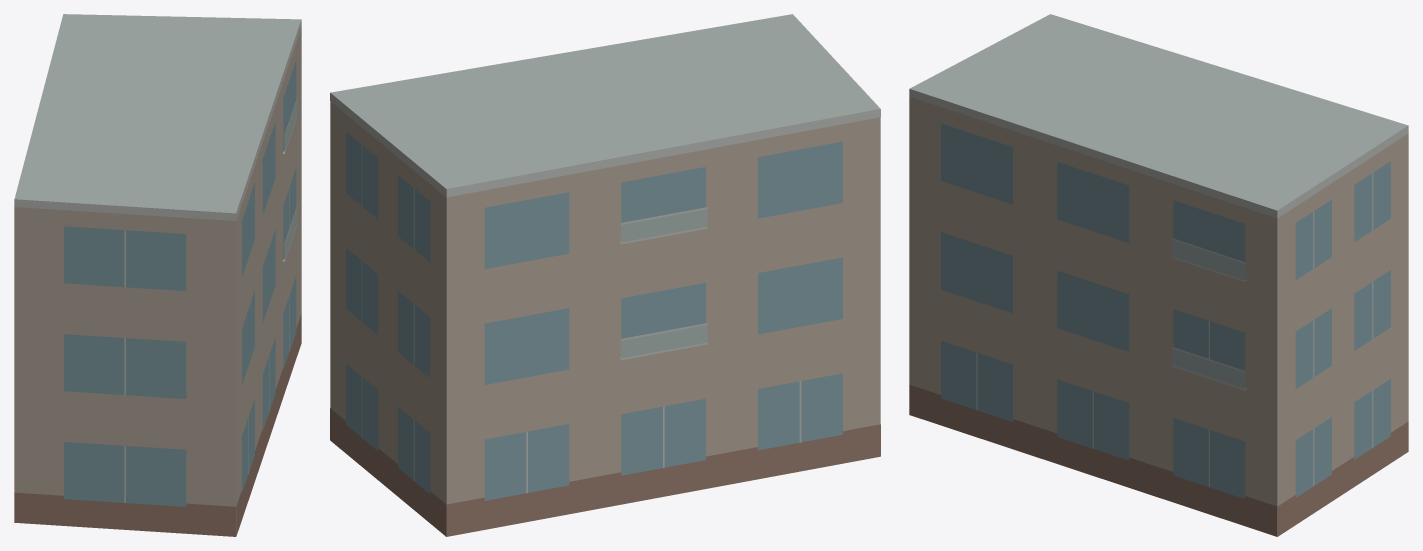
Rendered from survey-upis-33014014.glb.
3 renders of one model, left to right at view 1: azimuth 30°, elevation 25°; view 2: azimuth 150°, elevation 25°; view 3: azimuth 270°, elevation 25°, orthographic. The views are drawn at different scales.
Parts seen in each view (by area): view 1: survey-upis-33014014.tmp; view 2: survey-upis-33014014.tmp; view 3: survey-upis-33014014.tmp.
Part boxes in pixels (x1,y1,x2,y2): survey-upis-33014014.tmp: (14,14,301,536); survey-upis-33014014.tmp: (330,14,880,536); survey-upis-33014014.tmp: (909,14,1408,536).
Bounding box in the file's own units: 13.2 × 10.2 × 14.15.
